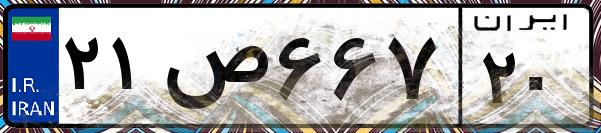0: (525, 38, 570, 115)
1: (110, 28, 158, 98)
2: (57, 26, 110, 100), (475, 38, 525, 113)
6: (270, 28, 330, 110), (330, 28, 385, 110)
7: (385, 28, 445, 110)
ص: (158, 20, 270, 120)
